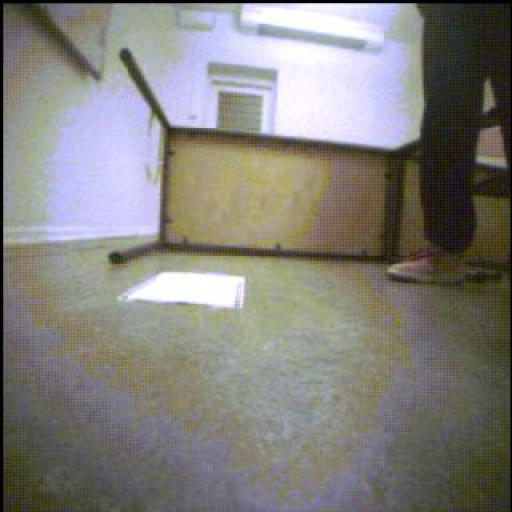Pad: (119, 273, 246, 308)
